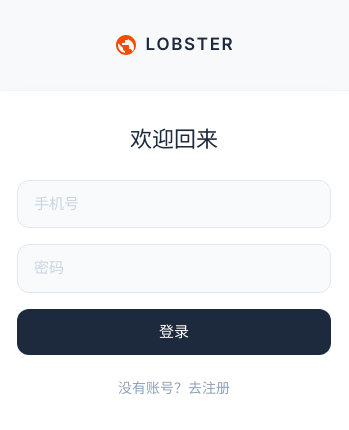
Test case: LoginPage › shows local validation error for invalid phone
The image size is (349, 430).
Type "12345" into the field with placeholder "手机号" at (174, 204), box x1=17 y1=180 x2=331 y2=228
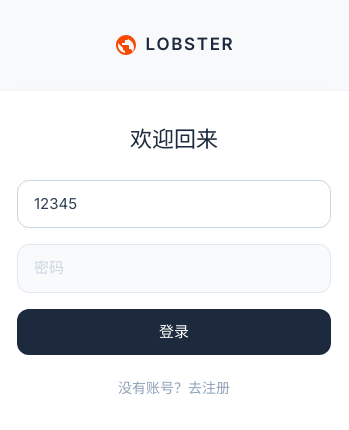
Type "secret123" into the password field with placeholder "密码" at (174, 268), box x1=17 y1=244 x2=331 y2=292
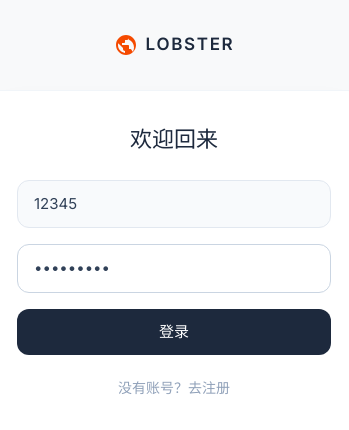
Click the button "登录" at (174, 332), box x1=17 y1=308 x2=331 y2=355
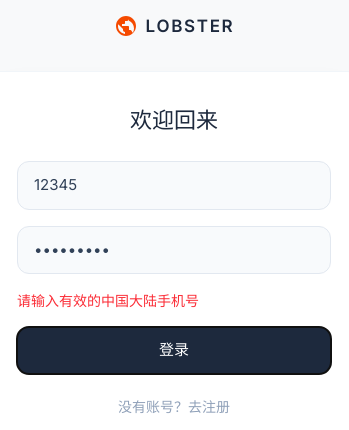
Expected: the text "请输入有效的中国大陆手机号" is shown, x1=17 y1=292 x2=199 y2=309
